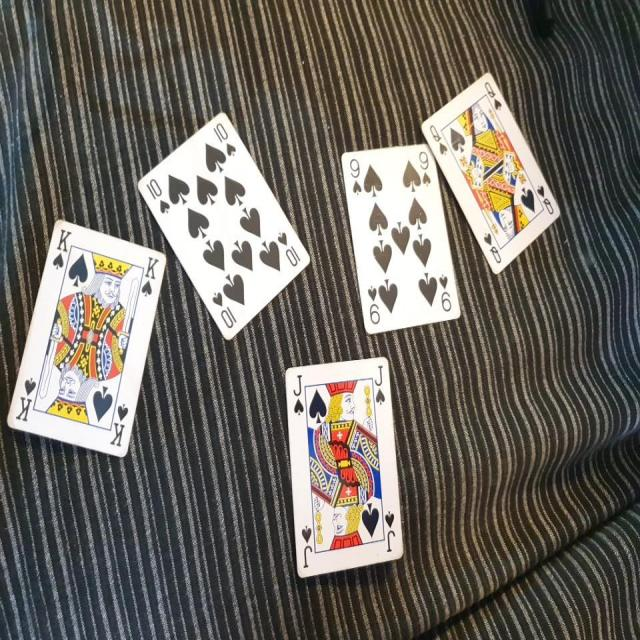10 Spades: (140, 104, 318, 345)
9 Spades: (338, 138, 464, 340)
J Spades: (284, 354, 412, 581)
K Spades: (11, 218, 174, 476)
Q Spades: (420, 66, 566, 274)
